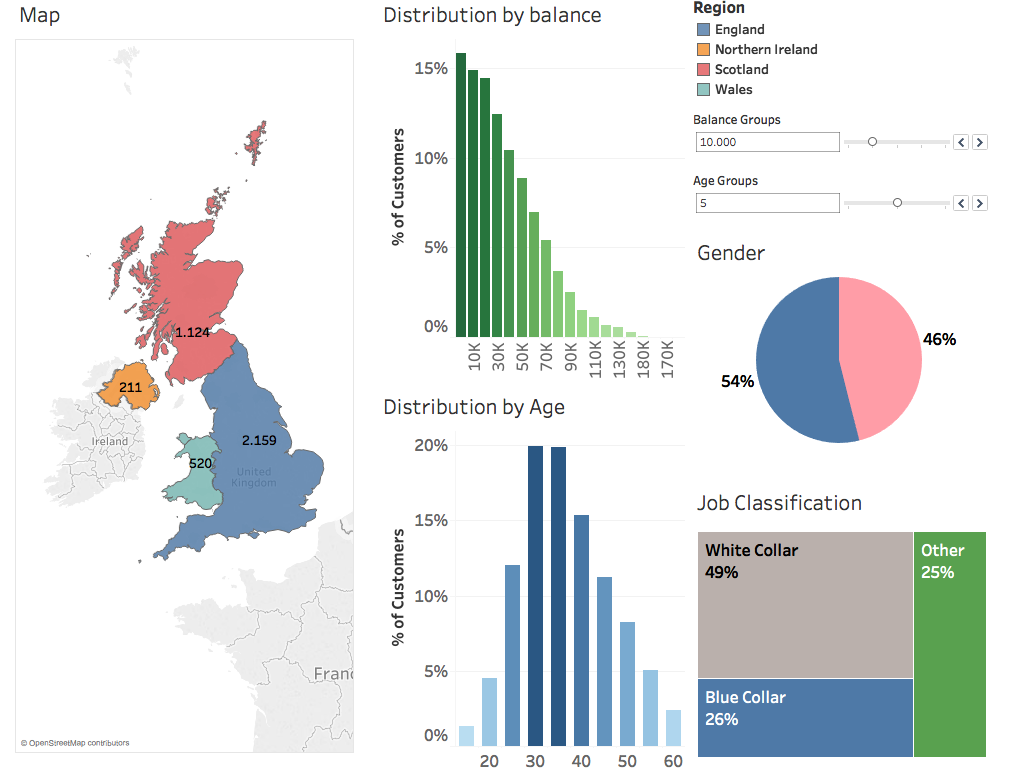

What the dashboard file says about the page in this screenshot:
{"tool":"tableau","page":{"name":"Segmentation","canvas":[1000,800],"ordinal":0},"visuals":[{"type":"worksheet","title":"Map","mark":"Multipolygon","box":[8,8,363.6,784]},{"type":"worksheet","title":"Distribution by balance","mark":"Automatic","rows":["Number of Records"],"cols":["Balance (bin)"],"box":[371.6,8,314.4,392]},{"type":"legend","title":"Map","param":"[federated.1yubvj418jphyw17lvysi0kd46d2].[none:Region:nk]","box":[686,8,306,115]},{"type":"parameter","param":"[Parameters].[Parameter 1]","box":[686,123,306,61.5]},{"type":"parameter","param":"[Parameters].[Parameter 2]","box":[686,184.5,306,61.5]},{"type":"worksheet","title":"Gender","mark":"Pie","box":[686,246,306,250]},{"type":"worksheet","title":"Distribution by Age","mark":"Bar","rows":["Number of Records"],"cols":["Age (bin)"],"box":[371.6,400,314.4,392]},{"type":"worksheet","title":"Job Classification","mark":"Automatic","box":[686,496,306,296]}]}

Visuals, with their boxes on the page's 1000x800 design canvas (x1, y1, x2, y2). These are canvas units, not pixel positions in the 1028x770 screenshot, which may show the page scaled, cropped or inside an application window:
"Map" worksheet (Multipolygon marks): [x1=8, y1=8, x2=372, y2=792]
"Distribution by balance" worksheet: [x1=372, y1=8, x2=686, y2=400]
"Map" legend: [x1=686, y1=8, x2=992, y2=123]
parameter: [x1=686, y1=123, x2=992, y2=184]
parameter: [x1=686, y1=184, x2=992, y2=246]
"Gender" worksheet (Pie marks): [x1=686, y1=246, x2=992, y2=496]
"Distribution by Age" worksheet (Bar marks): [x1=372, y1=400, x2=686, y2=792]
"Job Classification" worksheet: [x1=686, y1=496, x2=992, y2=792]
